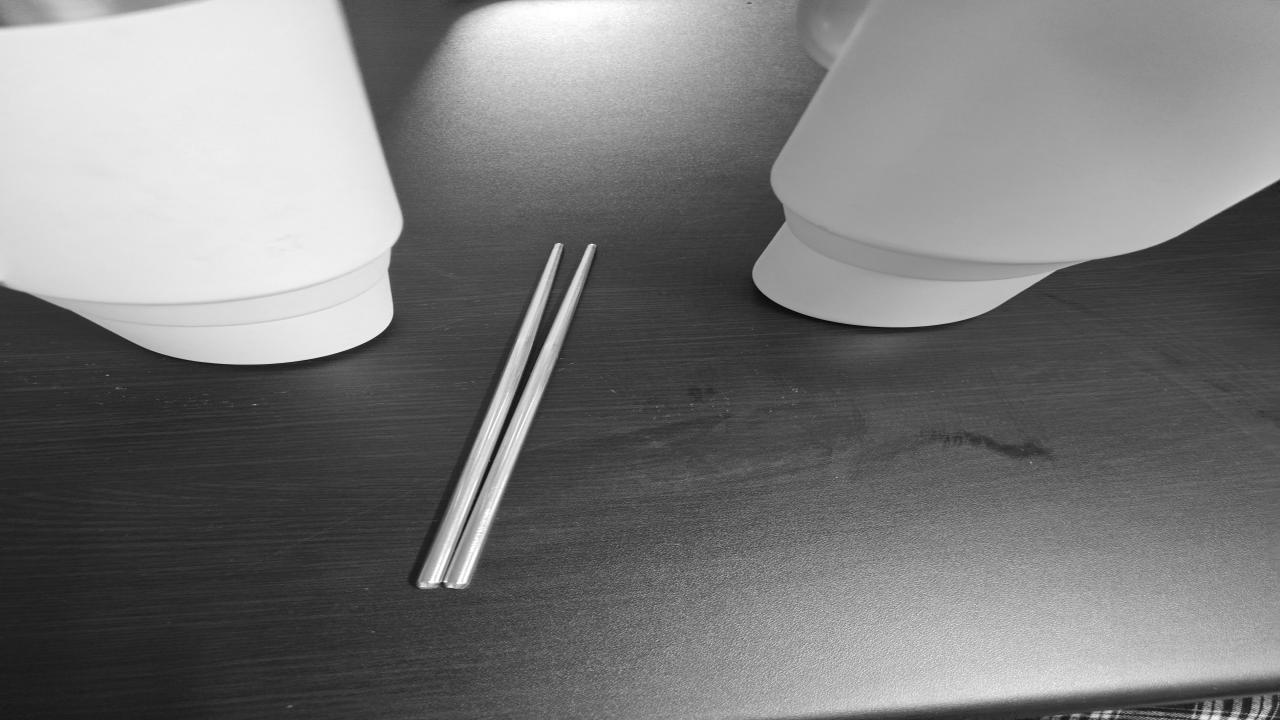chopstick: (420, 246, 600, 584)
